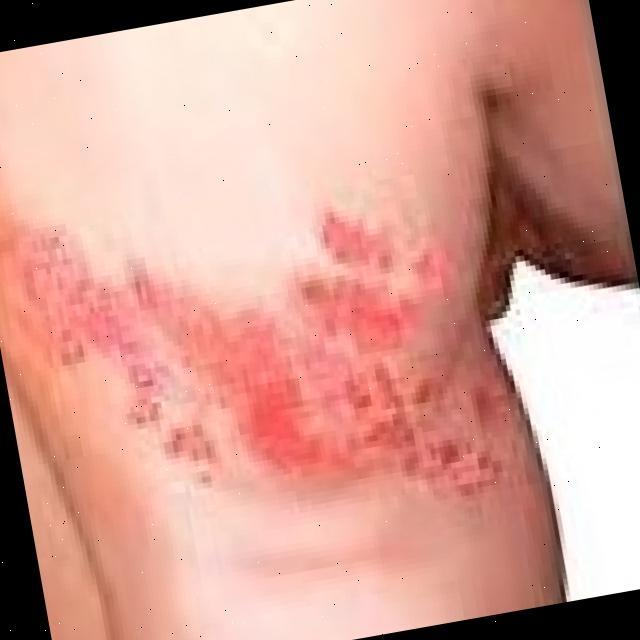Shingles: (22, 210, 502, 500)
